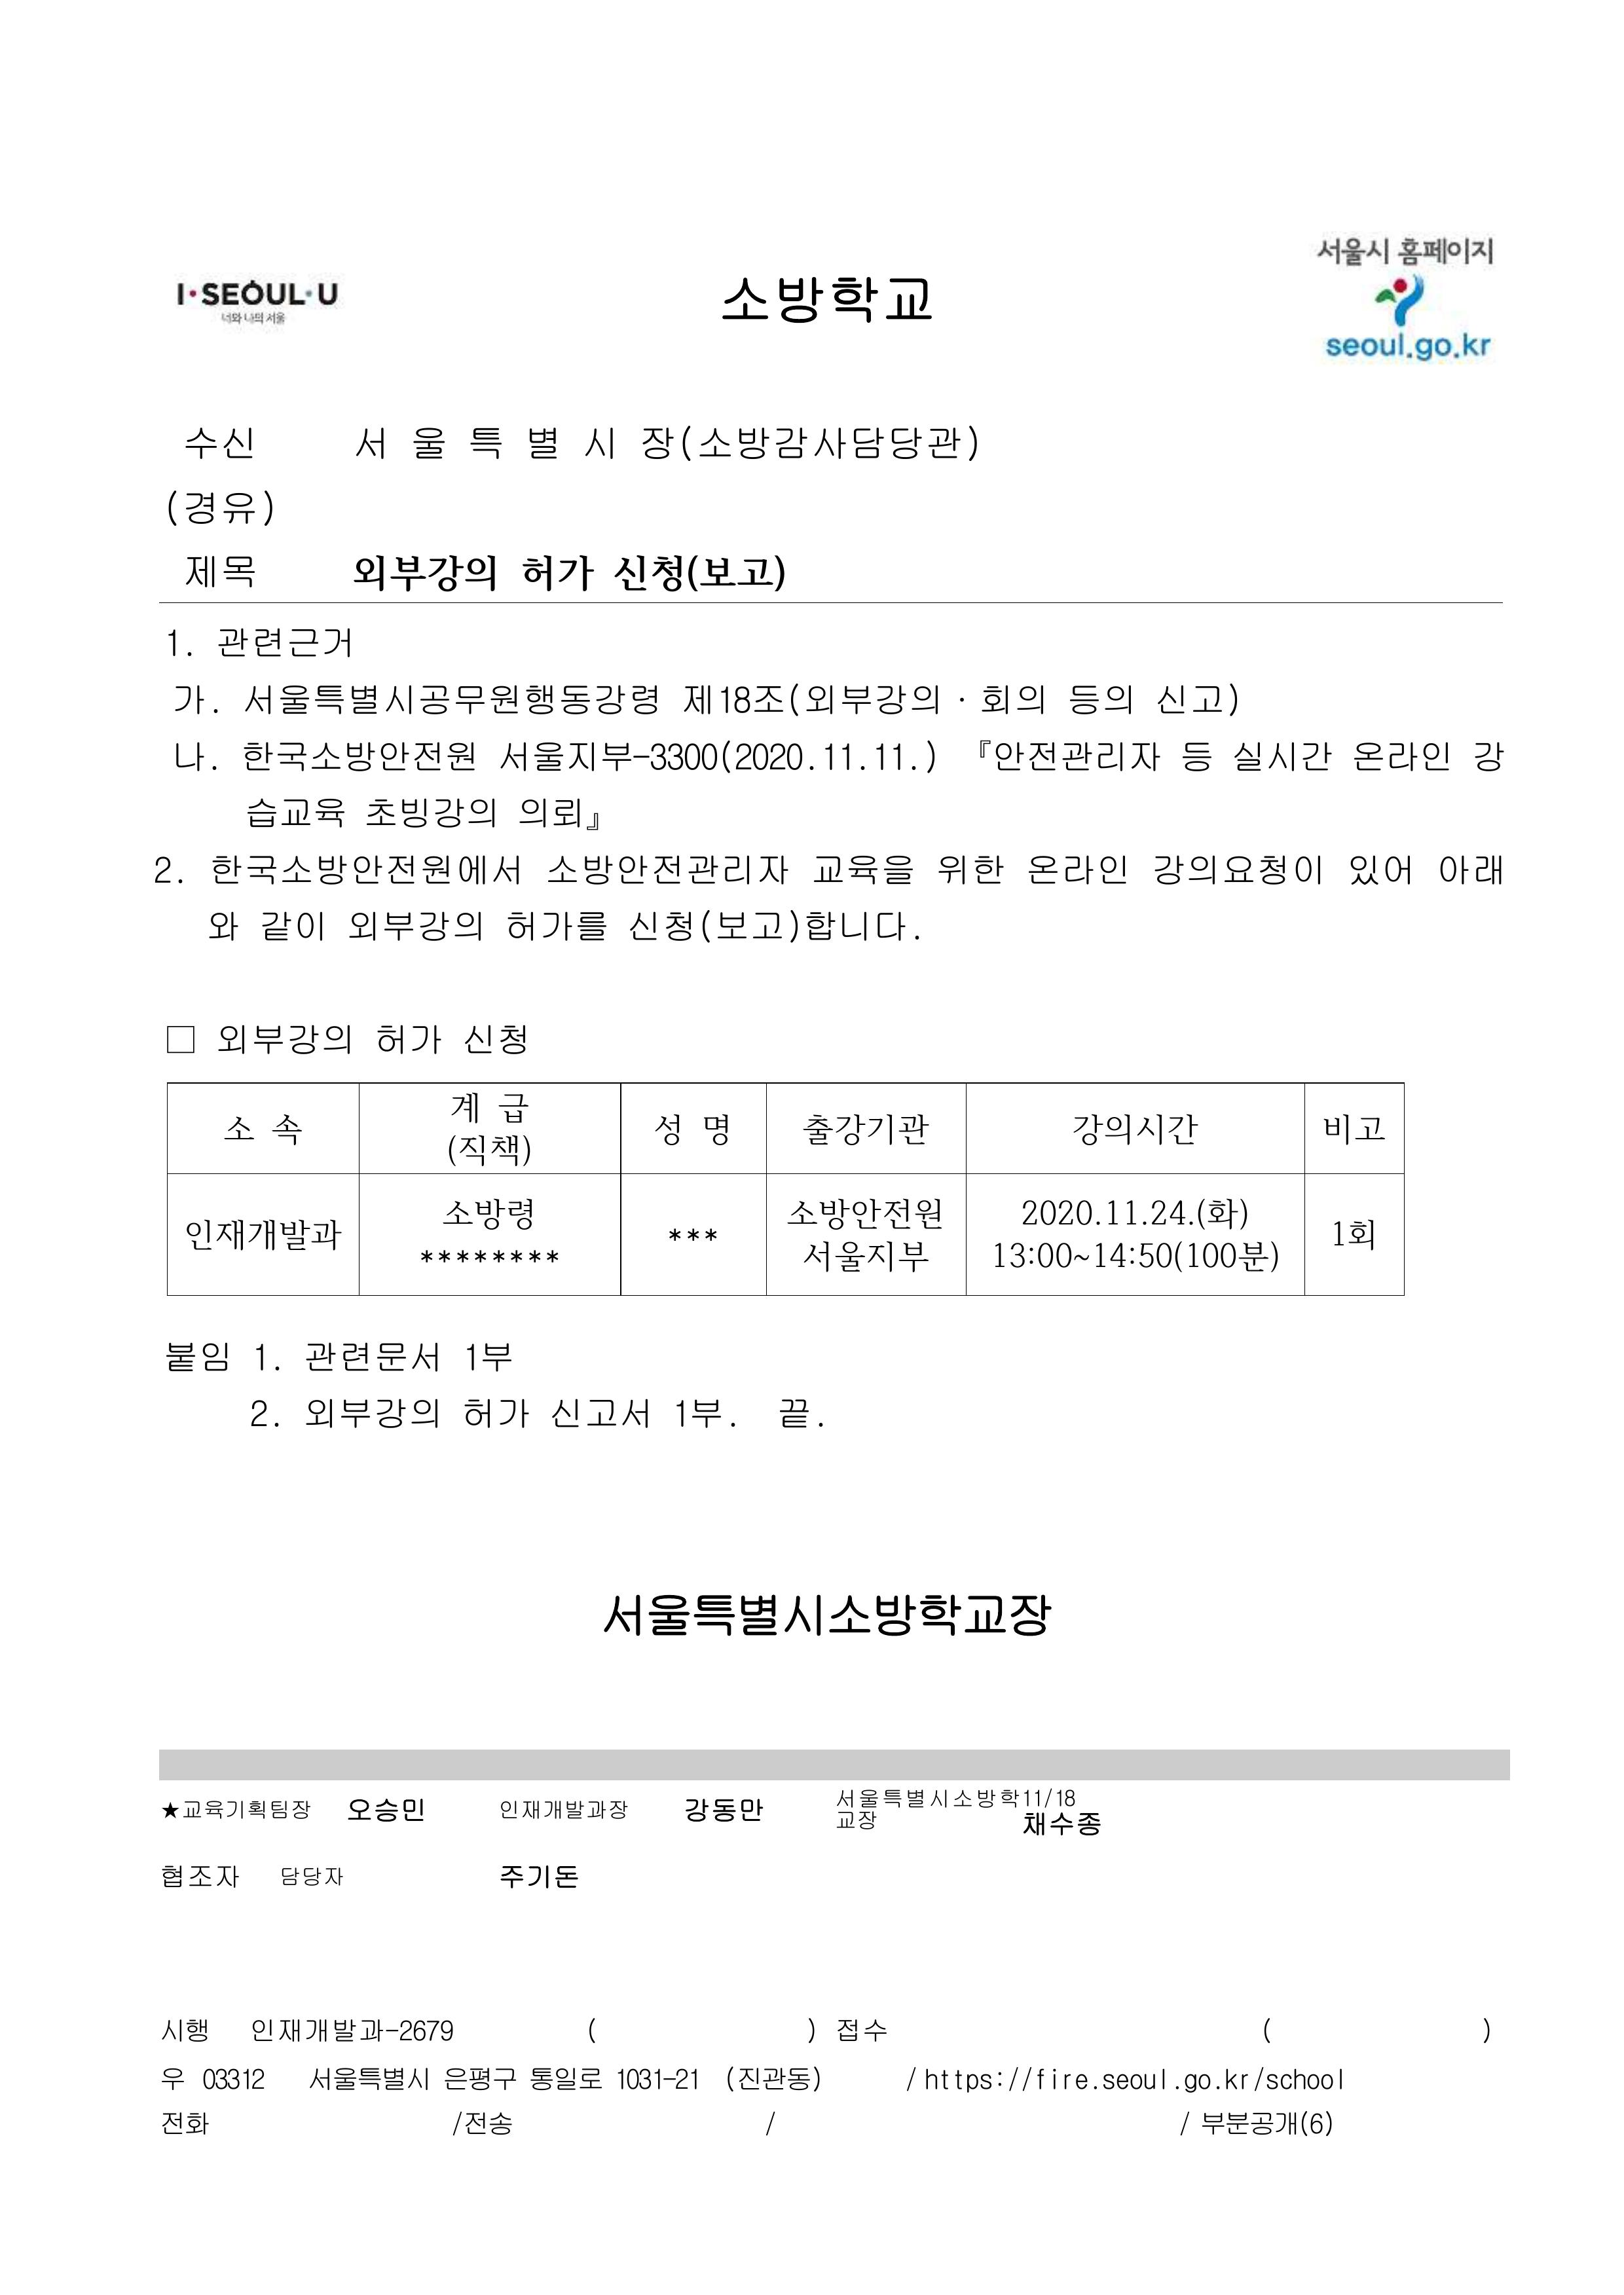t: (602, 1588, 1054, 1642), (240, 678, 659, 720), (635, 423, 986, 466), (208, 849, 523, 889), (720, 272, 936, 329), (627, 907, 921, 946), (989, 1237, 1280, 1276), (836, 1789, 1079, 1832), (545, 849, 788, 889), (678, 681, 943, 717), (240, 735, 477, 774), (610, 552, 792, 598), (1018, 1194, 1251, 1230), (972, 735, 1162, 774), (351, 552, 502, 598), (1151, 849, 1323, 889), (183, 1215, 344, 1255), (645, 739, 821, 774), (785, 1194, 943, 1233), (351, 423, 506, 462), (215, 623, 355, 663), (161, 487, 280, 534), (301, 1337, 441, 1377), (215, 1018, 355, 1057), (301, 1395, 441, 1434), (172, 276, 341, 308), (362, 792, 498, 832), (348, 907, 484, 946), (800, 1237, 929, 1276), (498, 739, 635, 774), (800, 1111, 929, 1147), (1069, 1111, 1198, 1147), (1198, 2108, 1334, 2140), (817, 739, 939, 774), (810, 849, 914, 889), (1025, 849, 1130, 889), (304, 2062, 430, 2094), (161, 1800, 315, 1825), (1391, 232, 1495, 268), (244, 796, 348, 832), (548, 1395, 652, 1431), (1230, 739, 1334, 774), (441, 1194, 534, 1233), (520, 552, 599, 598), (247, 2015, 358, 2047), (506, 907, 606, 943), (1352, 739, 1452, 774), (720, 2062, 824, 2094), (516, 796, 602, 832), (164, 1337, 236, 1380), (1154, 681, 1240, 717), (258, 907, 329, 950), (1312, 232, 1395, 268), (445, 1090, 527, 1126), (448, 1129, 530, 1165), (613, 2062, 703, 2094), (498, 1800, 631, 1822), (222, 1111, 301, 1147), (652, 1111, 731, 1147), (373, 1018, 445, 1057), (183, 423, 254, 462), (183, 552, 254, 591), (157, 1861, 244, 1893), (681, 1793, 767, 1825), (936, 849, 1004, 889), (459, 1395, 534, 1431), (344, 1793, 426, 1825), (1018, 1807, 1101, 1839), (498, 1861, 581, 1893), (419, 1247, 563, 1266), (1410, 337, 1494, 367), (1251, 2068, 1348, 2094), (979, 681, 1047, 717), (1065, 681, 1133, 717), (1344, 853, 1412, 889), (459, 1021, 527, 1057), (441, 2062, 516, 2094), (527, 2062, 602, 2094), (358, 2019, 455, 2044), (1007, 2065, 1090, 2094), (197, 2062, 268, 2094), (1323, 333, 1412, 358), (671, 1395, 731, 1431), (1434, 853, 1502, 885), (1319, 1111, 1384, 1144), (459, 1337, 513, 1373), (448, 2108, 513, 2137), (1101, 2068, 1172, 2094), (172, 681, 222, 717), (1327, 1215, 1377, 1251), (157, 2015, 212, 2044), (774, 1395, 817, 1431), (832, 2015, 885, 2044), (523, 423, 563, 462), (577, 423, 616, 462), (172, 739, 215, 774), (280, 1868, 348, 1890), (953, 2068, 1004, 2097), (208, 907, 244, 943), (161, 2112, 212, 2137), (1179, 739, 1212, 774), (1470, 739, 1502, 774), (247, 1395, 276, 1431), (667, 1226, 720, 1244), (921, 2065, 953, 2094), (164, 631, 193, 659), (154, 856, 179, 889), (1183, 2072, 1215, 2097), (254, 1344, 280, 1373), (1223, 2068, 1251, 2094)
